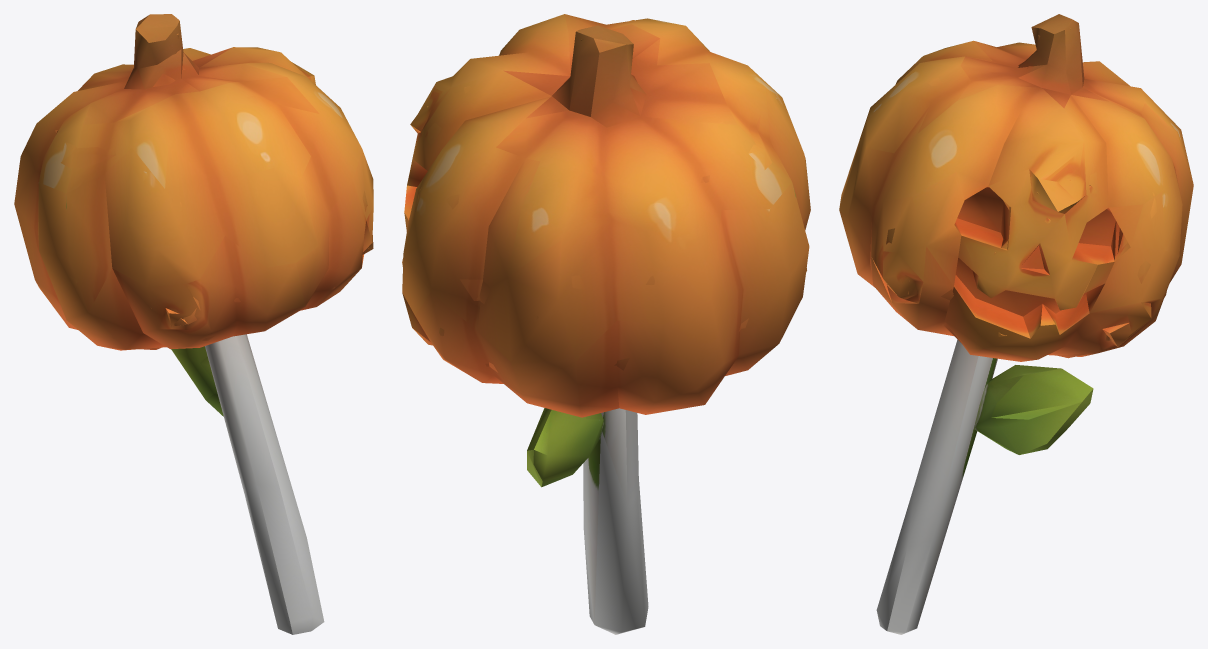
The model's file is S11_LollipopPumpkin_LOD2.fbx.
3 renders of one model, left to right at view 1: azimuth 30°, elevation 25°; view 2: azimuth 150°, elevation 25°; view 3: azimuth 270°, elevation 25°, orthographic. The views are drawn at different scales.
Parts seen in each view (by area): view 1: S11_LollipopPumpkin_LOD2; view 2: S11_LollipopPumpkin_LOD2; view 3: S11_LollipopPumpkin_LOD2.
Boxes of the visible parts, box(x1,y1,x2,y2) form: S11_LollipopPumpkin_LOD2: box(14, 14, 373, 634); S11_LollipopPumpkin_LOD2: box(402, 14, 810, 634); S11_LollipopPumpkin_LOD2: box(839, 14, 1193, 634).
Bounding box in the file's own units: 0.0497 × 0.0902 × 0.0497.
1 material, 1 textured.
